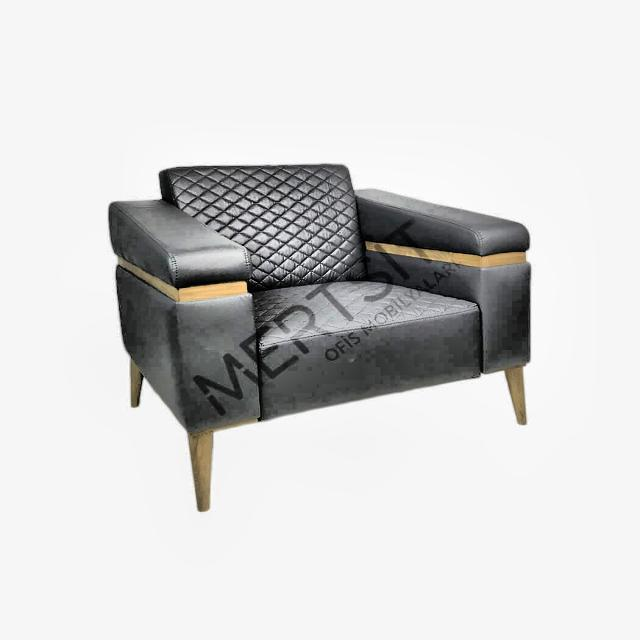sofa: (107, 162, 532, 512)
